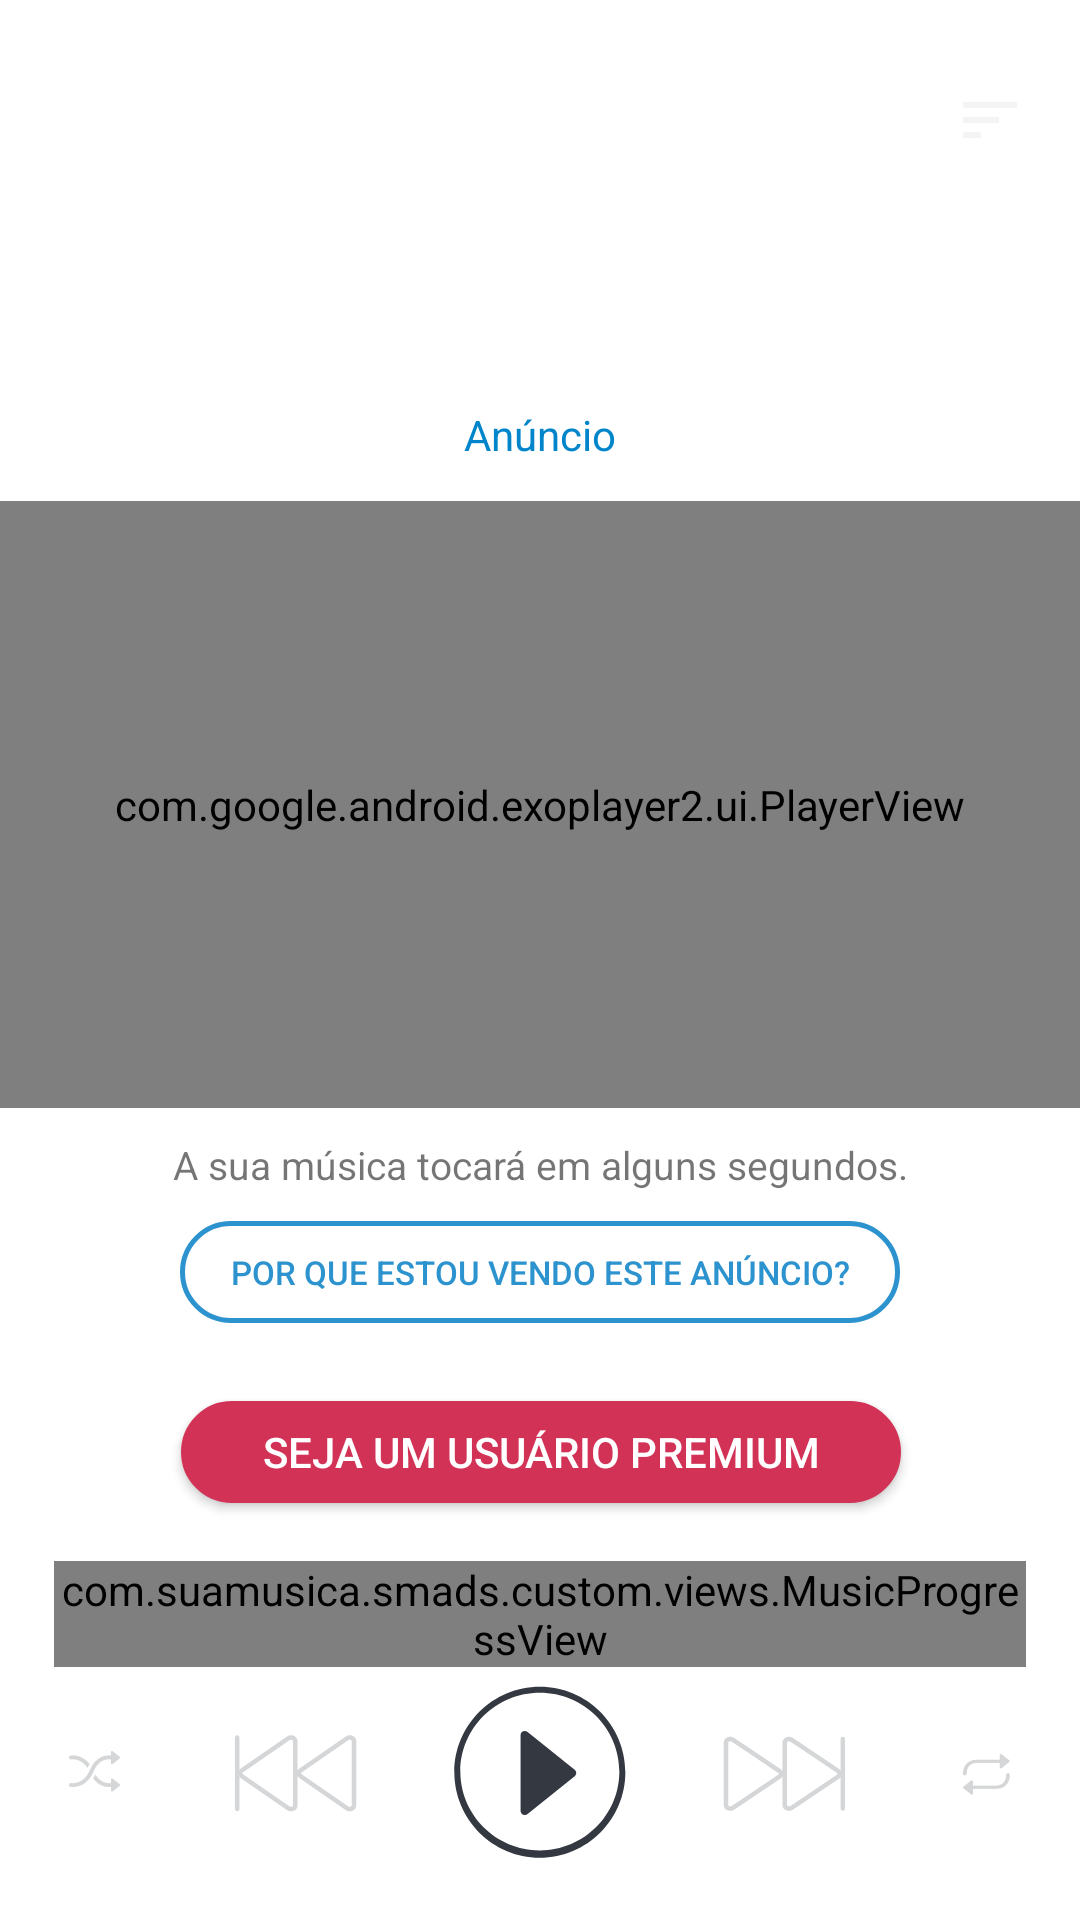

Screen size 1080×1920. Icon name, then its box in pixels as (x1, y1, x2, y2):
player next: (724, 1737, 845, 1811)
player play: (454, 1686, 626, 1858)
player previous: (235, 1735, 356, 1811)
player repeat: (963, 1754, 1010, 1794)
shuffle: (69, 1751, 120, 1791)
